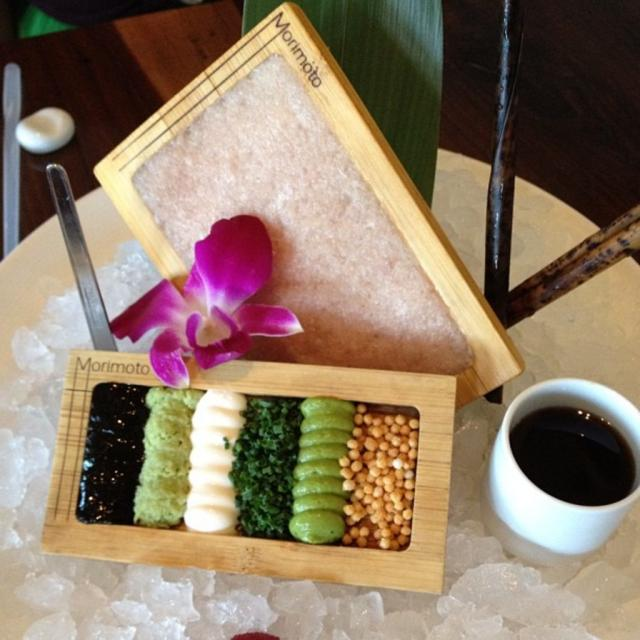Coffee: (509, 409, 639, 507)
Tea: (513, 410, 639, 506)
